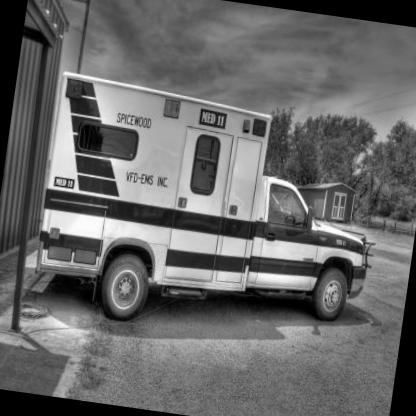ambulance: (16, 56, 405, 338)
